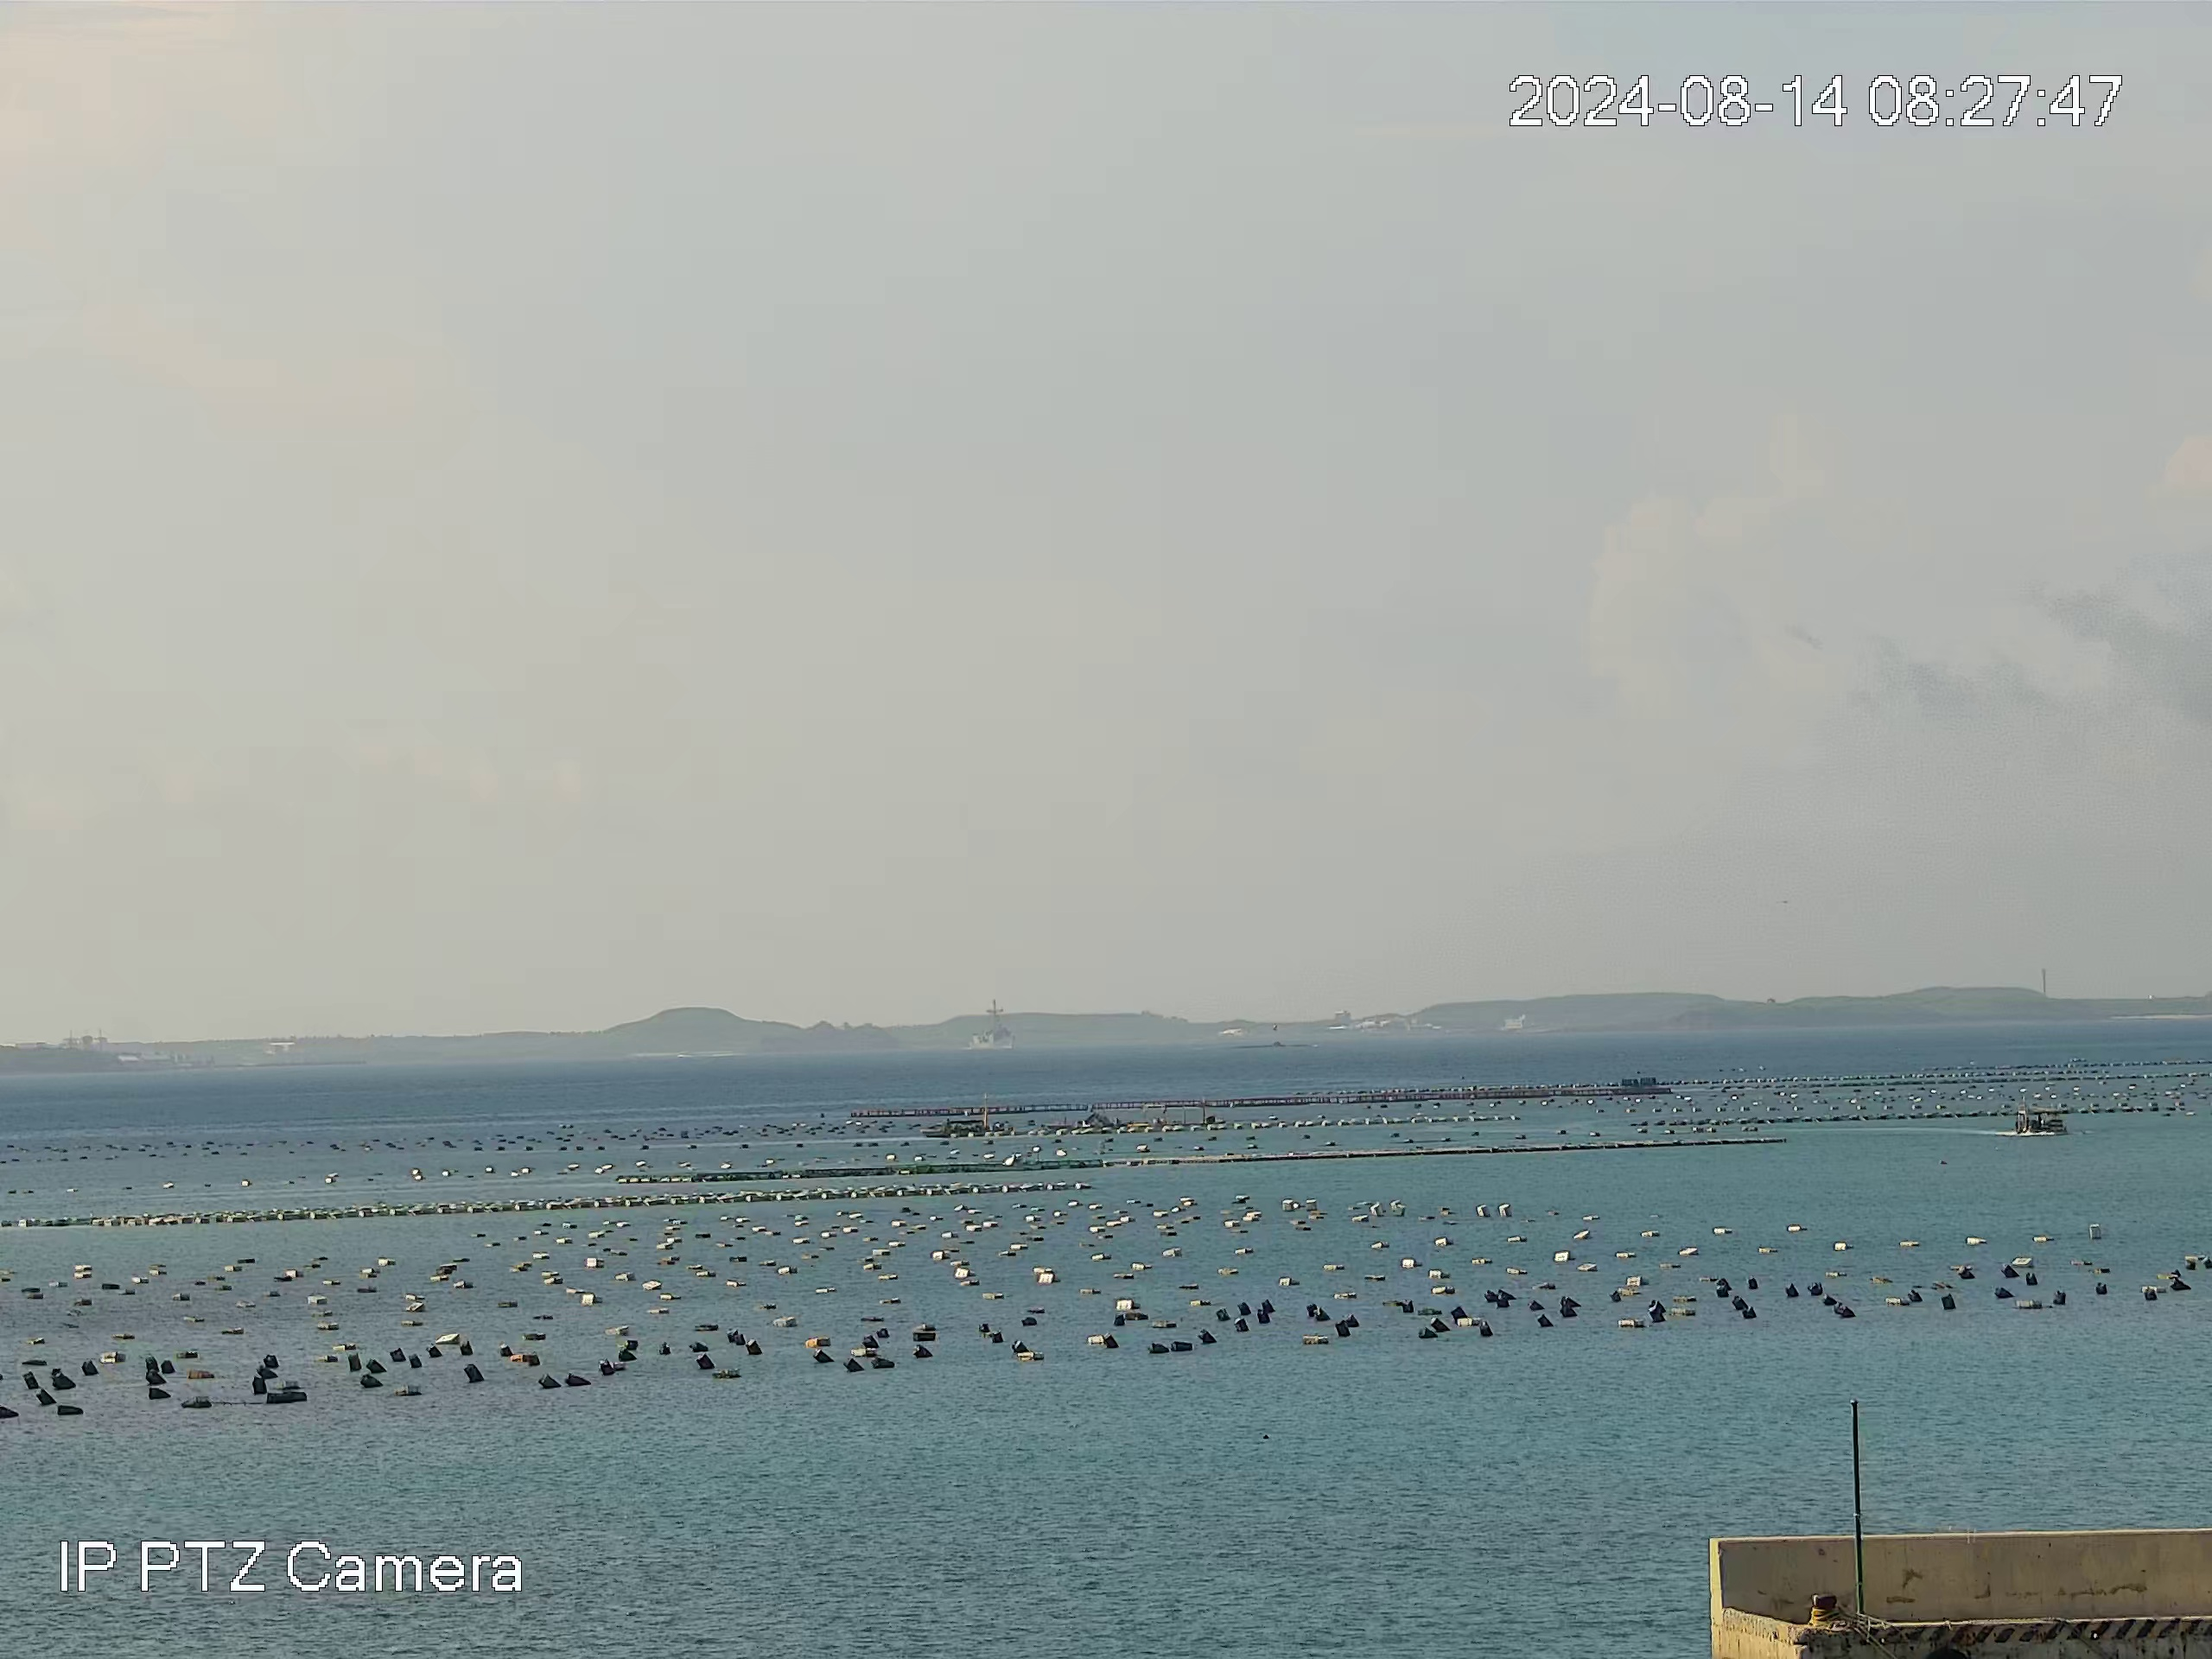boat: (918, 1119, 986, 1140), (2017, 1110, 2067, 1136)
